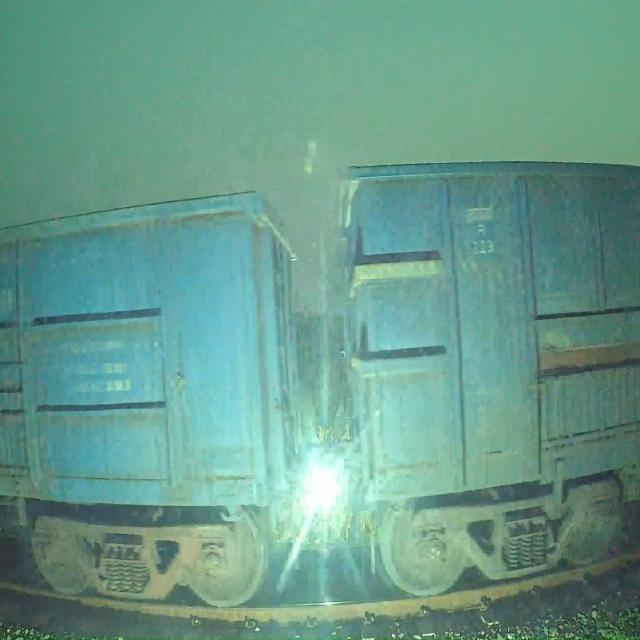WAgon-uic: (340, 156, 640, 604), (0, 190, 306, 611)
